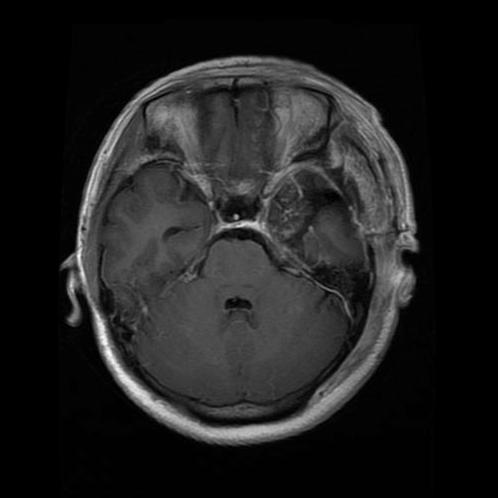Tumour-Glioma: (260, 190, 358, 273)
